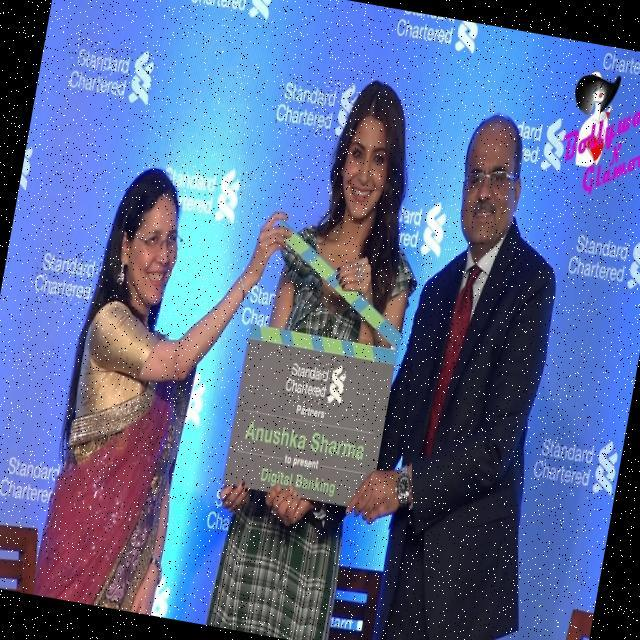Standard Chartered: (269, 72, 363, 146), (530, 426, 620, 503), (156, 157, 246, 228), (66, 34, 158, 103), (32, 247, 125, 314), (564, 224, 640, 297), (282, 350, 350, 408)
